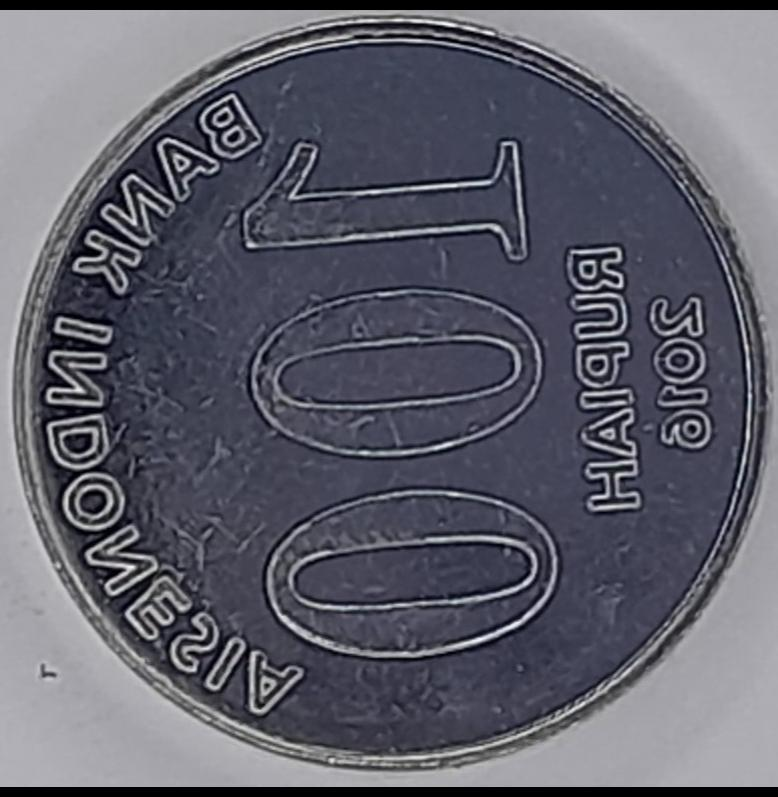coin_100_e2016: (6, 10, 775, 773)
